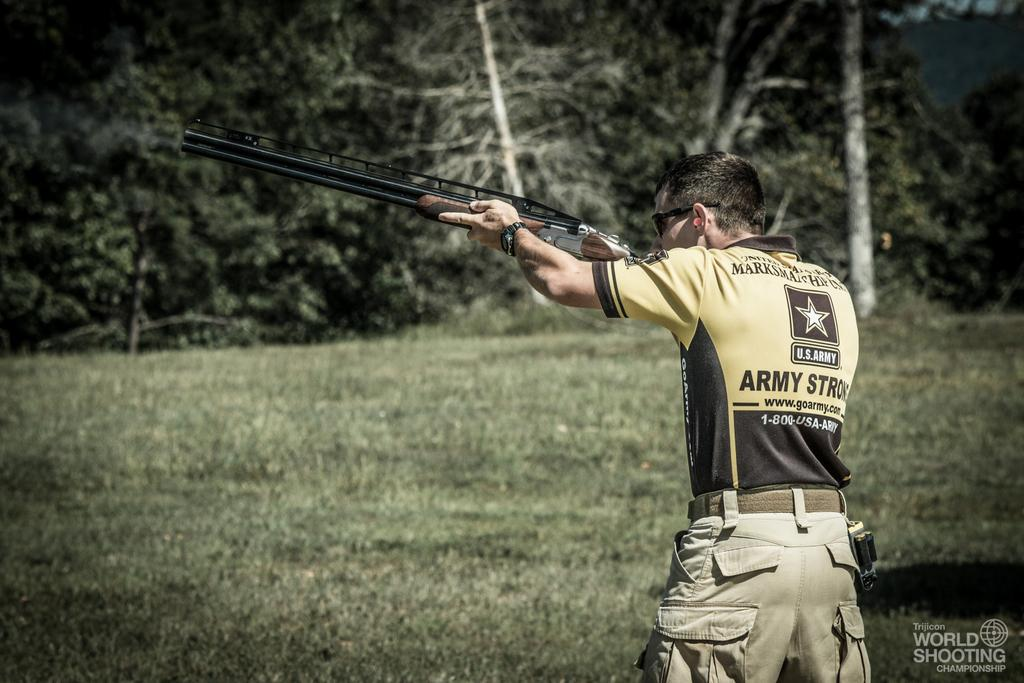Shotgun: (179, 135, 695, 320)
